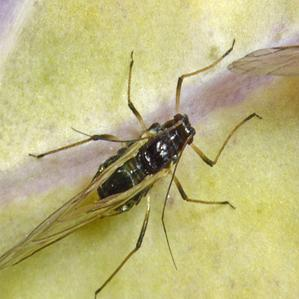Green peach aphid: (0, 36, 280, 299)
